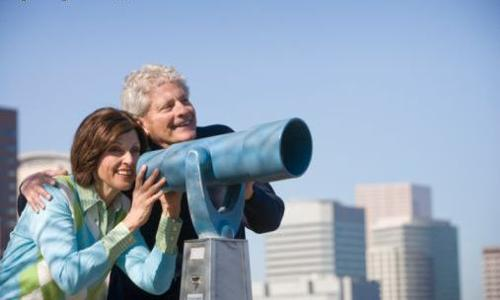person: (3, 109, 184, 300)
